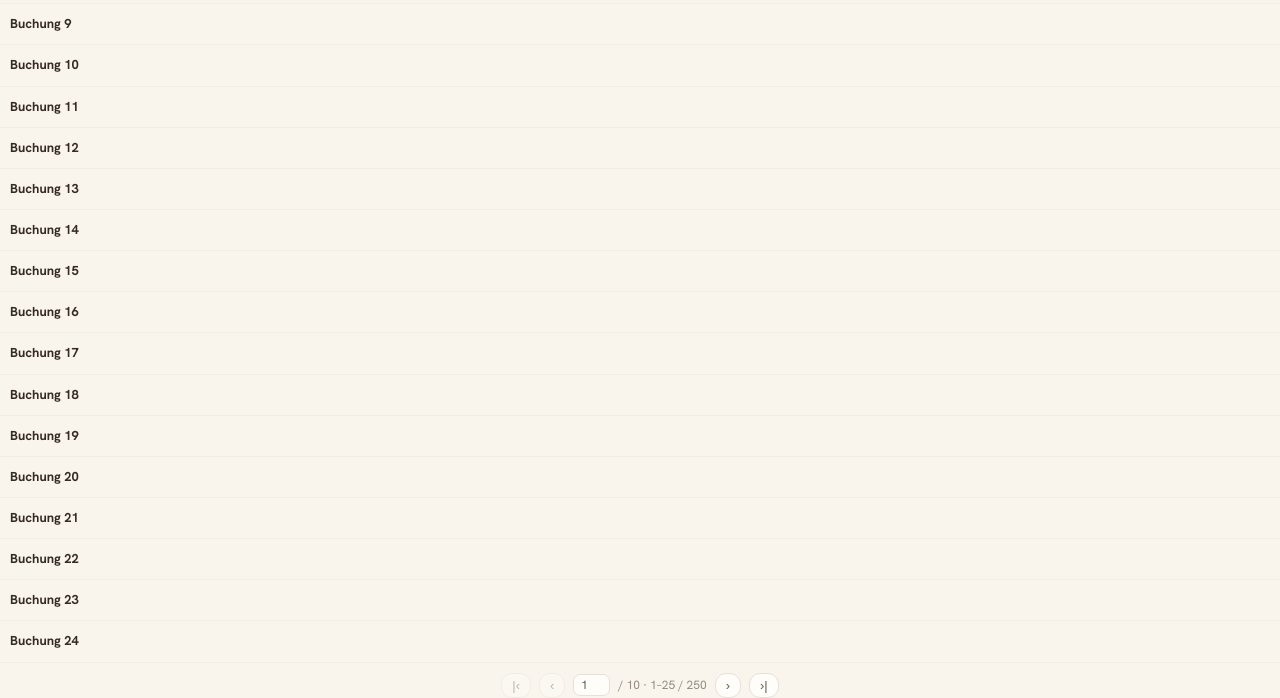
Test case: DataTable — Seitensteuerung › nimmt eine direkt eingegebene Seitenzahl
This screenshot has width=1280, height=698.
(page scrolled)
Replace the text in the number field named "Seite" with "4" at coordinates (592, 685), box [573, 674, 610, 696]
(page scrolled)
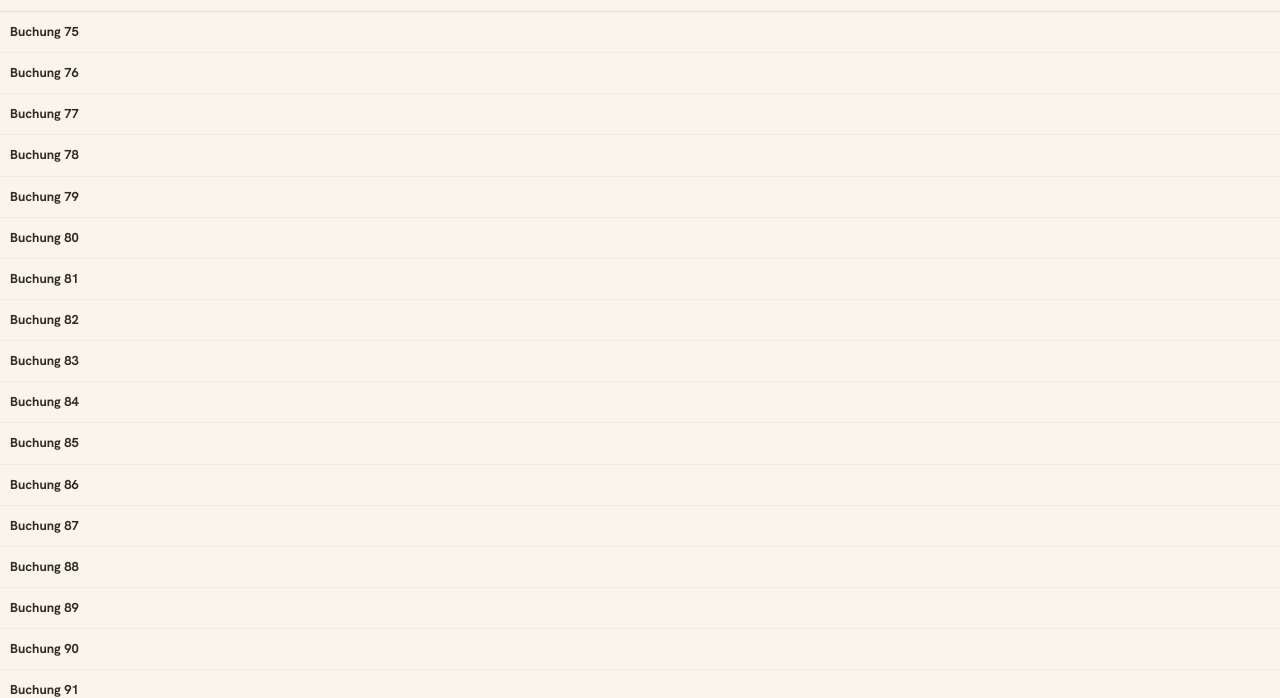
Now the text "Buchung 75" is shown, box [10, 23, 79, 40]
